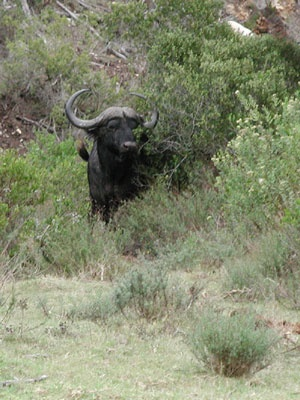buffalo: (122, 163, 242, 316)
